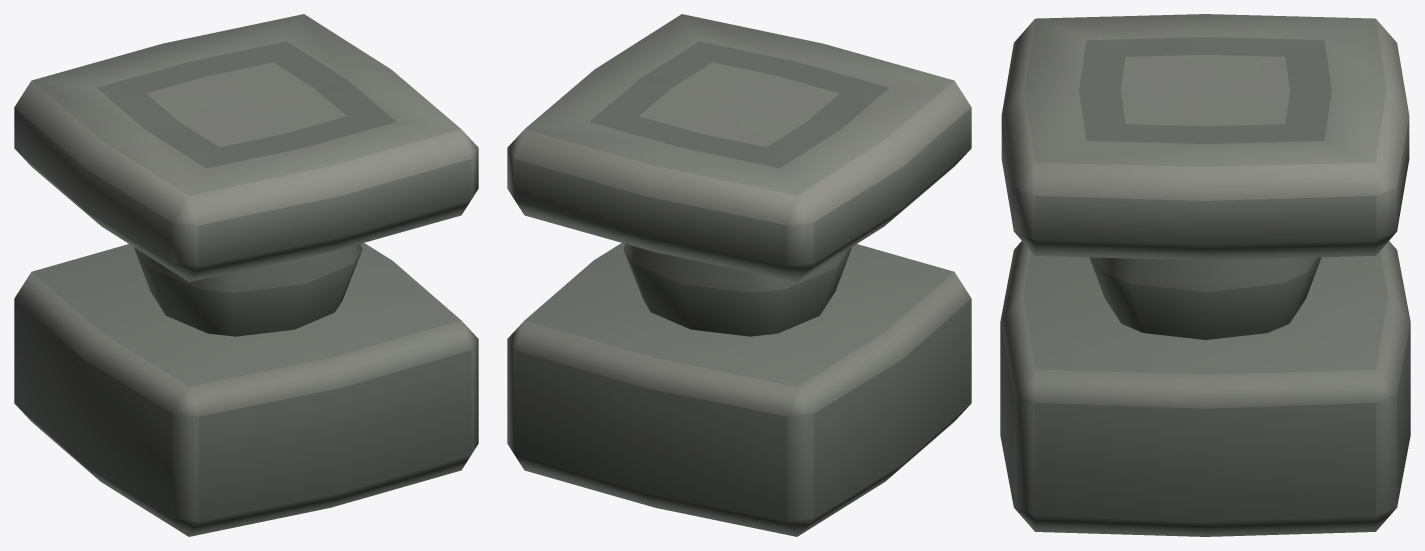
Rendered from pillar_small_karate_temple.fbx.
The picture shows the model from 3 angles, left to right: view 1: azimuth 30°, elevation 25°; view 2: azimuth 150°, elevation 25°; view 3: azimuth 270°, elevation 25°; orthographic projection. The views are drawn at different scales.
Visible parts, largest first — view 1: pillar_small_karate_temple; view 2: pillar_small_karate_temple; view 3: pillar_small_karate_temple.
Part boxes in pixels (bbox=[...]): pillar_small_karate_temple: bbox=[14, 14, 478, 536]; pillar_small_karate_temple: bbox=[507, 14, 971, 536]; pillar_small_karate_temple: bbox=[1000, 14, 1410, 536].
Bounding box in the file's own units: 135 × 134 × 135.
Materials: 1 (1 with a texture image).
